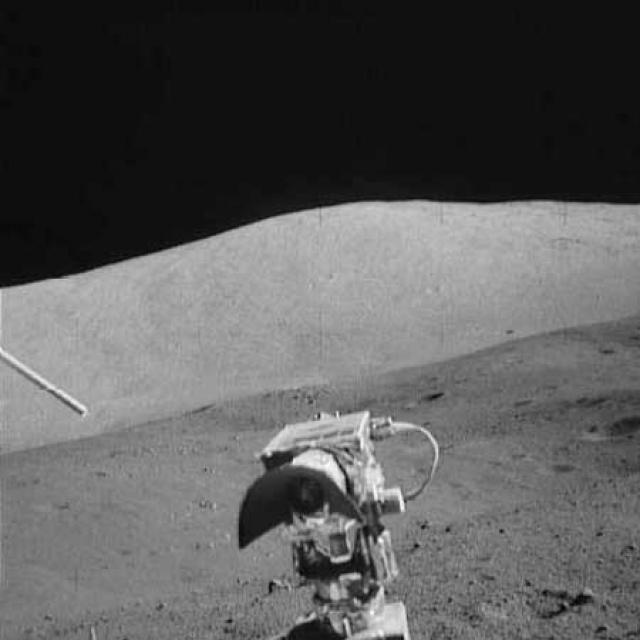artifact: (222, 410, 441, 639), (0, 346, 87, 425)
crater: (578, 406, 638, 444), (399, 388, 450, 408)
